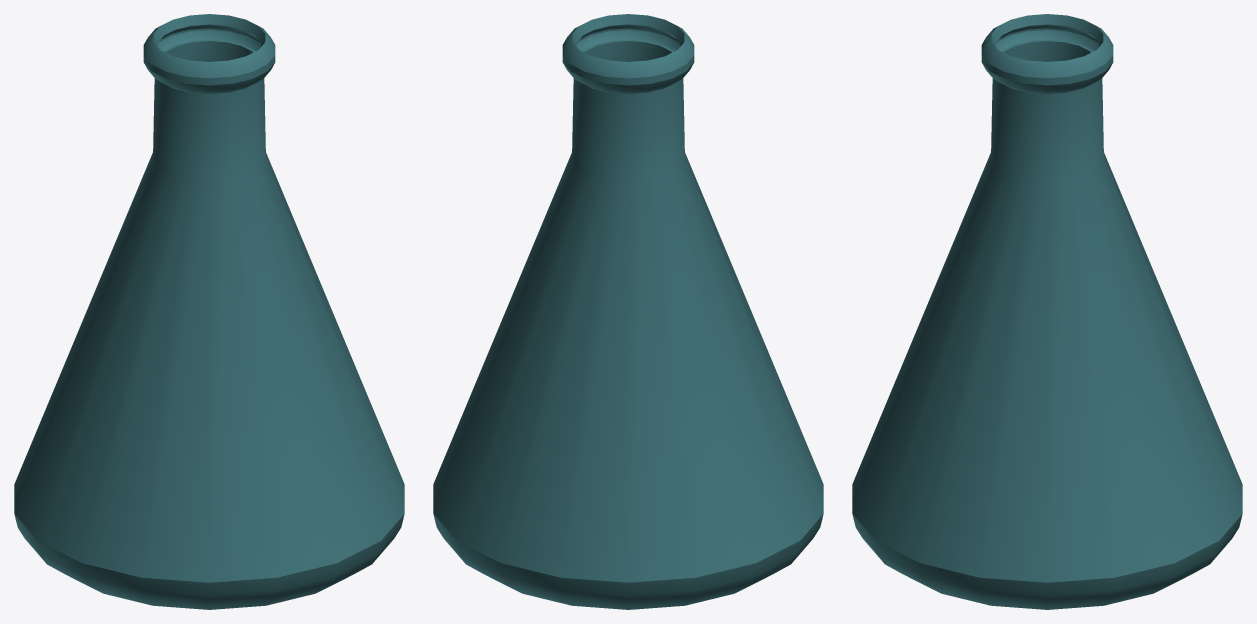
File: erlenmayer_low.fbx
3 renders of one model, left to right at view 1: azimuth 30°, elevation 25°; view 2: azimuth 150°, elevation 25°; view 3: azimuth 270°, elevation 25°, orthographic.
Parts seen in each view (by area): view 1: erlenmeyer; view 2: erlenmeyer; view 3: erlenmeyer.
Part boxes in pixels (x1,y1,x2,y2): erlenmeyer: (14,14,404,609); erlenmeyer: (433,14,823,609); erlenmeyer: (852,14,1242,609).
Bounding box in the file's own units: 11.45 × 16.02 × 11.28.
